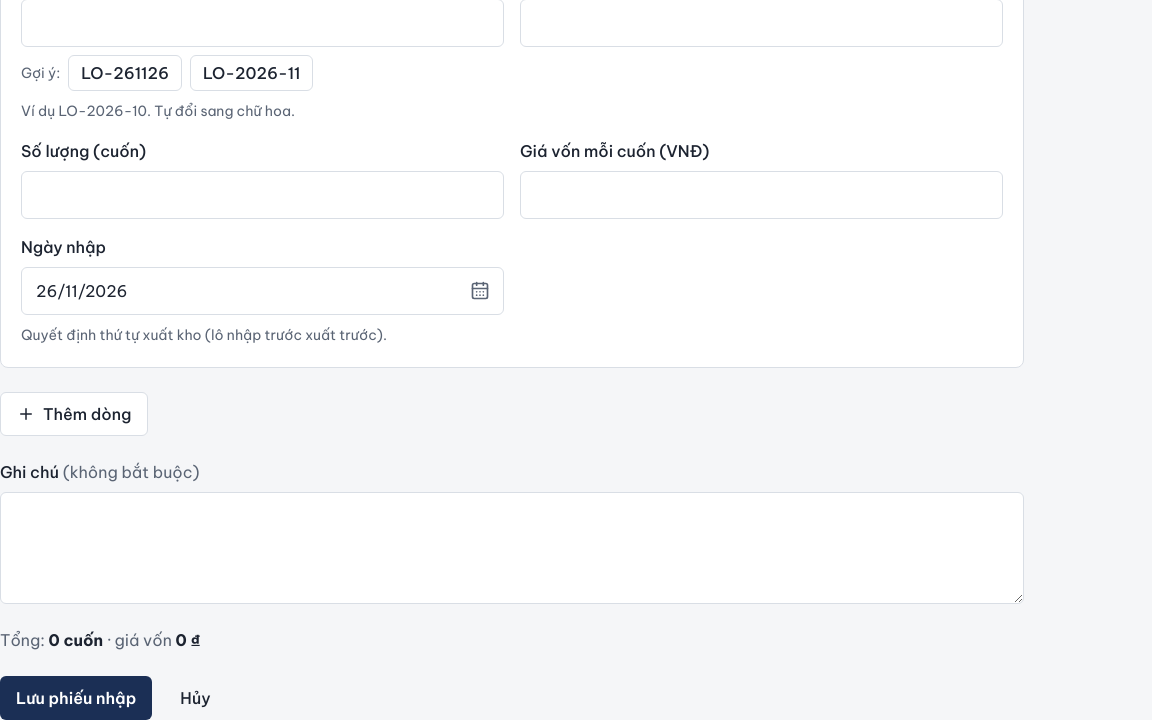
ReceiptCreate › chưa chọn SKU thì báo lỗi, không gọi API
The width and height of the screenshot is (1152, 720).
(page scrolled)
Click the button "Thêm dòng" at {"x": 74, "y": 414}, box x1=0 y1=392 x2=148 y2=436
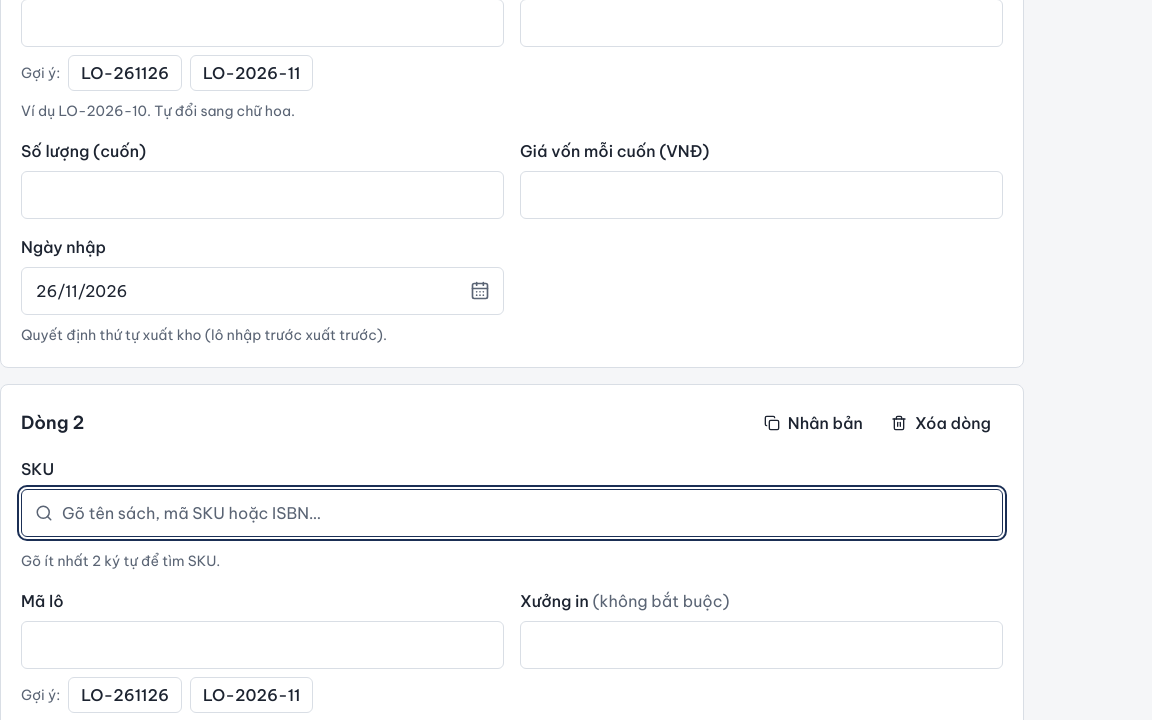
Result: the heading "Dòng 2" is shown at x1=21 y1=409 x2=84 y2=437
Click the button with aria-label "Xóa dòng 2" at {"x": 941, "y": 423}, box x1=879 y1=405 x2=1003 y2=441
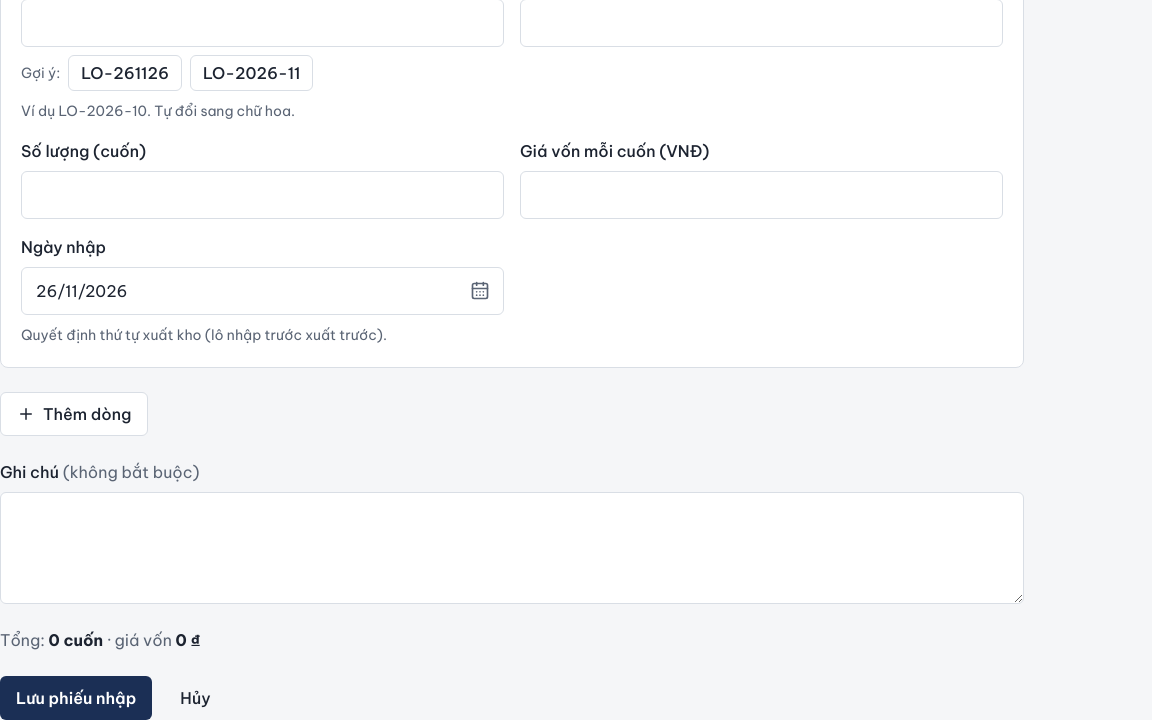
Click the button "Lưu phiếu nhập" at {"x": 76, "y": 698}, box x1=0 y1=676 x2=152 y2=719
(page scrolled)
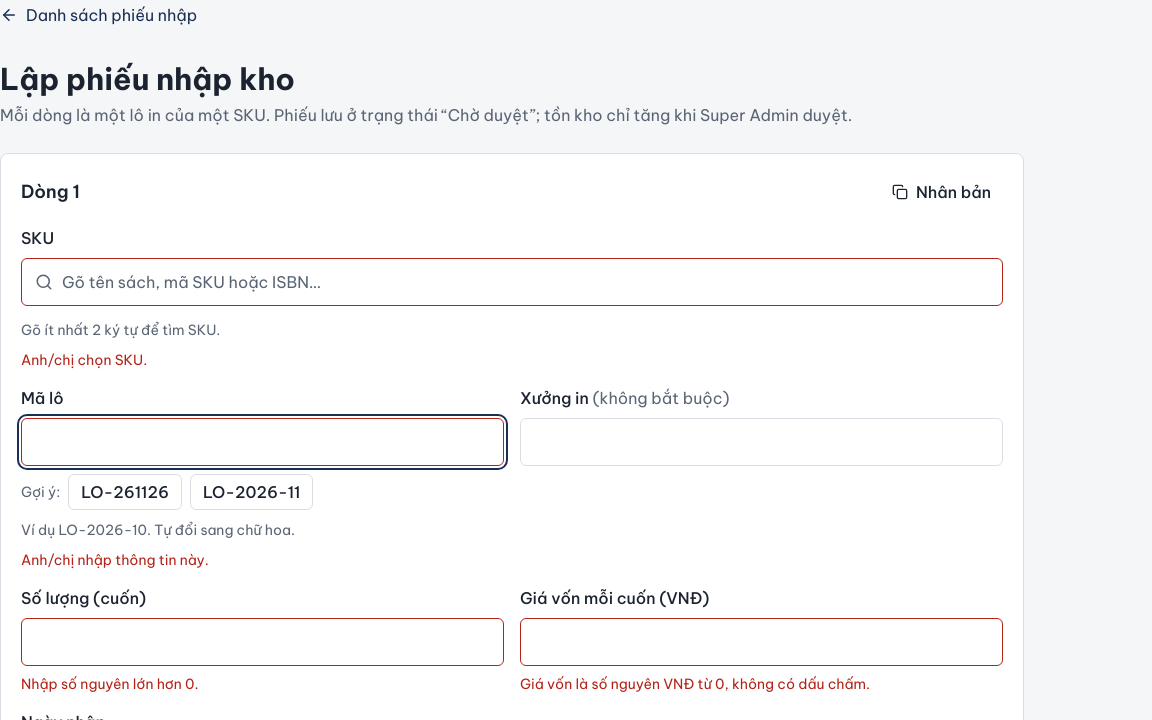
Result: the text "Anh/chị chọn SKU." is shown at x1=21 y1=351 x2=147 y2=369
